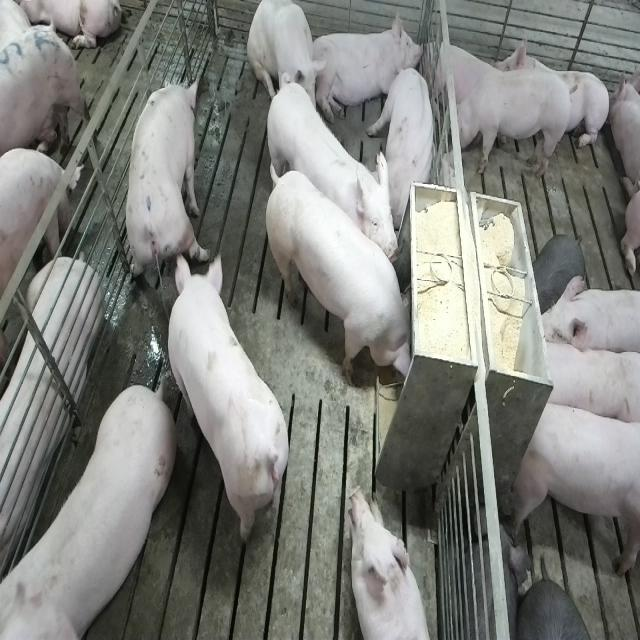Feeding: (270, 164, 422, 388)
Sitting: (371, 64, 436, 220), (246, 1, 322, 127)
Standing: (0, 385, 172, 640), (170, 256, 294, 550), (263, 76, 398, 269), (508, 395, 638, 580), (123, 73, 207, 296), (0, 14, 89, 181), (450, 66, 575, 176), (536, 332, 637, 429), (536, 276, 640, 360)
Sternal_lying: (494, 30, 608, 158), (314, 10, 425, 129), (348, 486, 432, 640), (428, 34, 499, 121)
